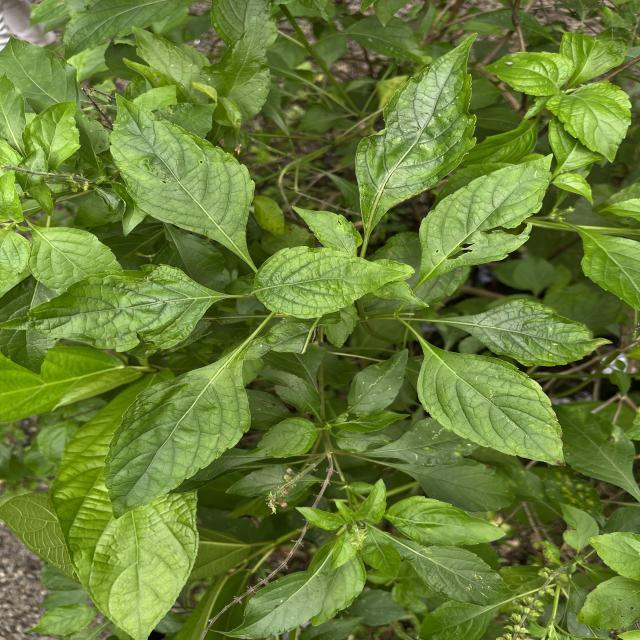Ocimum gratissimum: (100, 324, 256, 524), (352, 30, 480, 259), (107, 90, 260, 274), (0, 260, 226, 356), (414, 332, 568, 468), (421, 297, 614, 368), (250, 242, 416, 324), (208, 539, 338, 640), (378, 528, 524, 609), (386, 494, 508, 548), (340, 346, 410, 417)
